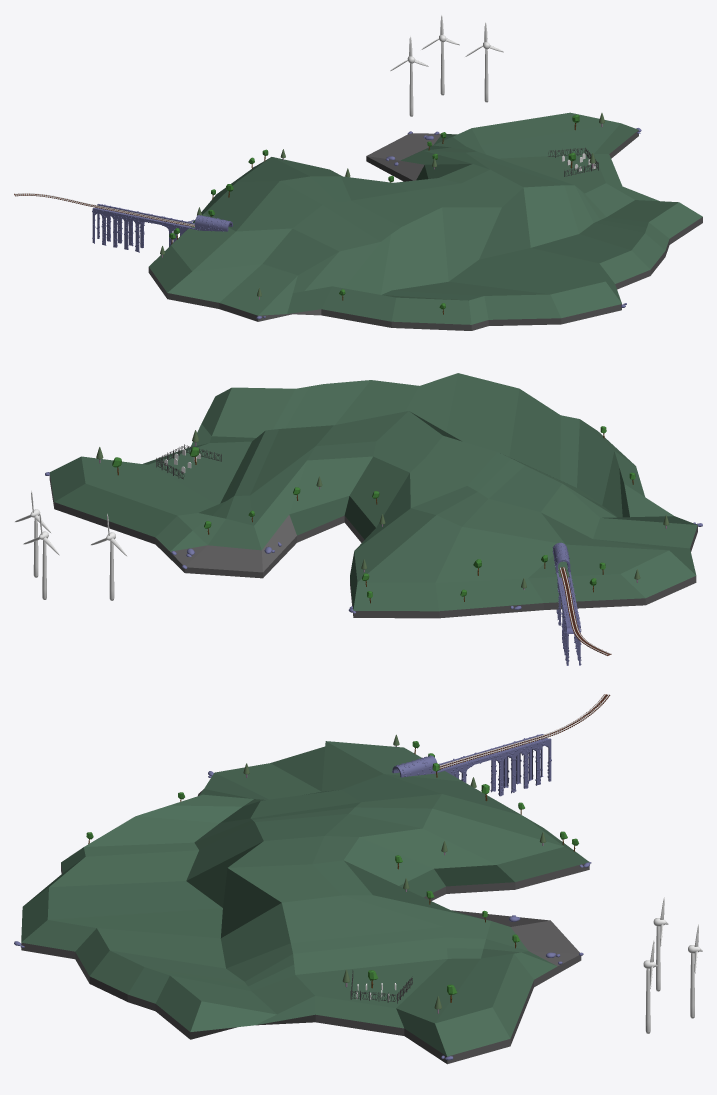
Rendered from island2.glb.
The picture shows the model from 3 angles, top to bottom: view 1: azimuth 30°, elevation 25°; view 2: azimuth 150°, elevation 25°; view 3: azimuth 270°, elevation 25°; orthographic projection. The views are drawn at different scales.
Visible parts, largest first — view 1: island2_base, bridge segment slim, train; view 2: island2_base, bridge segment slim, train, windwmill.001, windwmill, windwmill.002; view 3: island2_base, bridge segment slim, train, tunnel entrance.
Part boxes in pixels (x1,y1,x2,y2): island2_base: (148, 112, 702, 330); bridge segment slim: (92, 204, 203, 251); train: (14, 193, 194, 226); island2_base: (49, 373, 697, 618); bridge segment slim: (556, 572, 580, 665); train: (559, 567, 611, 655); windwmill.001: (23, 513, 59, 599); windwmill: (90, 514, 126, 600); windwmill.002: (14, 490, 50, 577); island2_base: (21, 741, 589, 1064); bridge segment slim: (437, 734, 551, 795); train: (439, 694, 610, 769); tunnel entrance: (392, 755, 437, 777).
Bounding box in the file's own units: 205 × 28.97 × 178.
